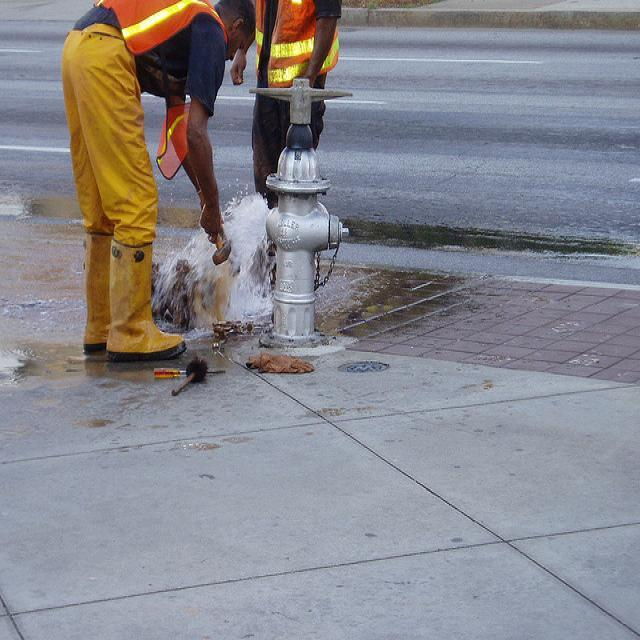fire_hydrant: (249, 82, 361, 350)
